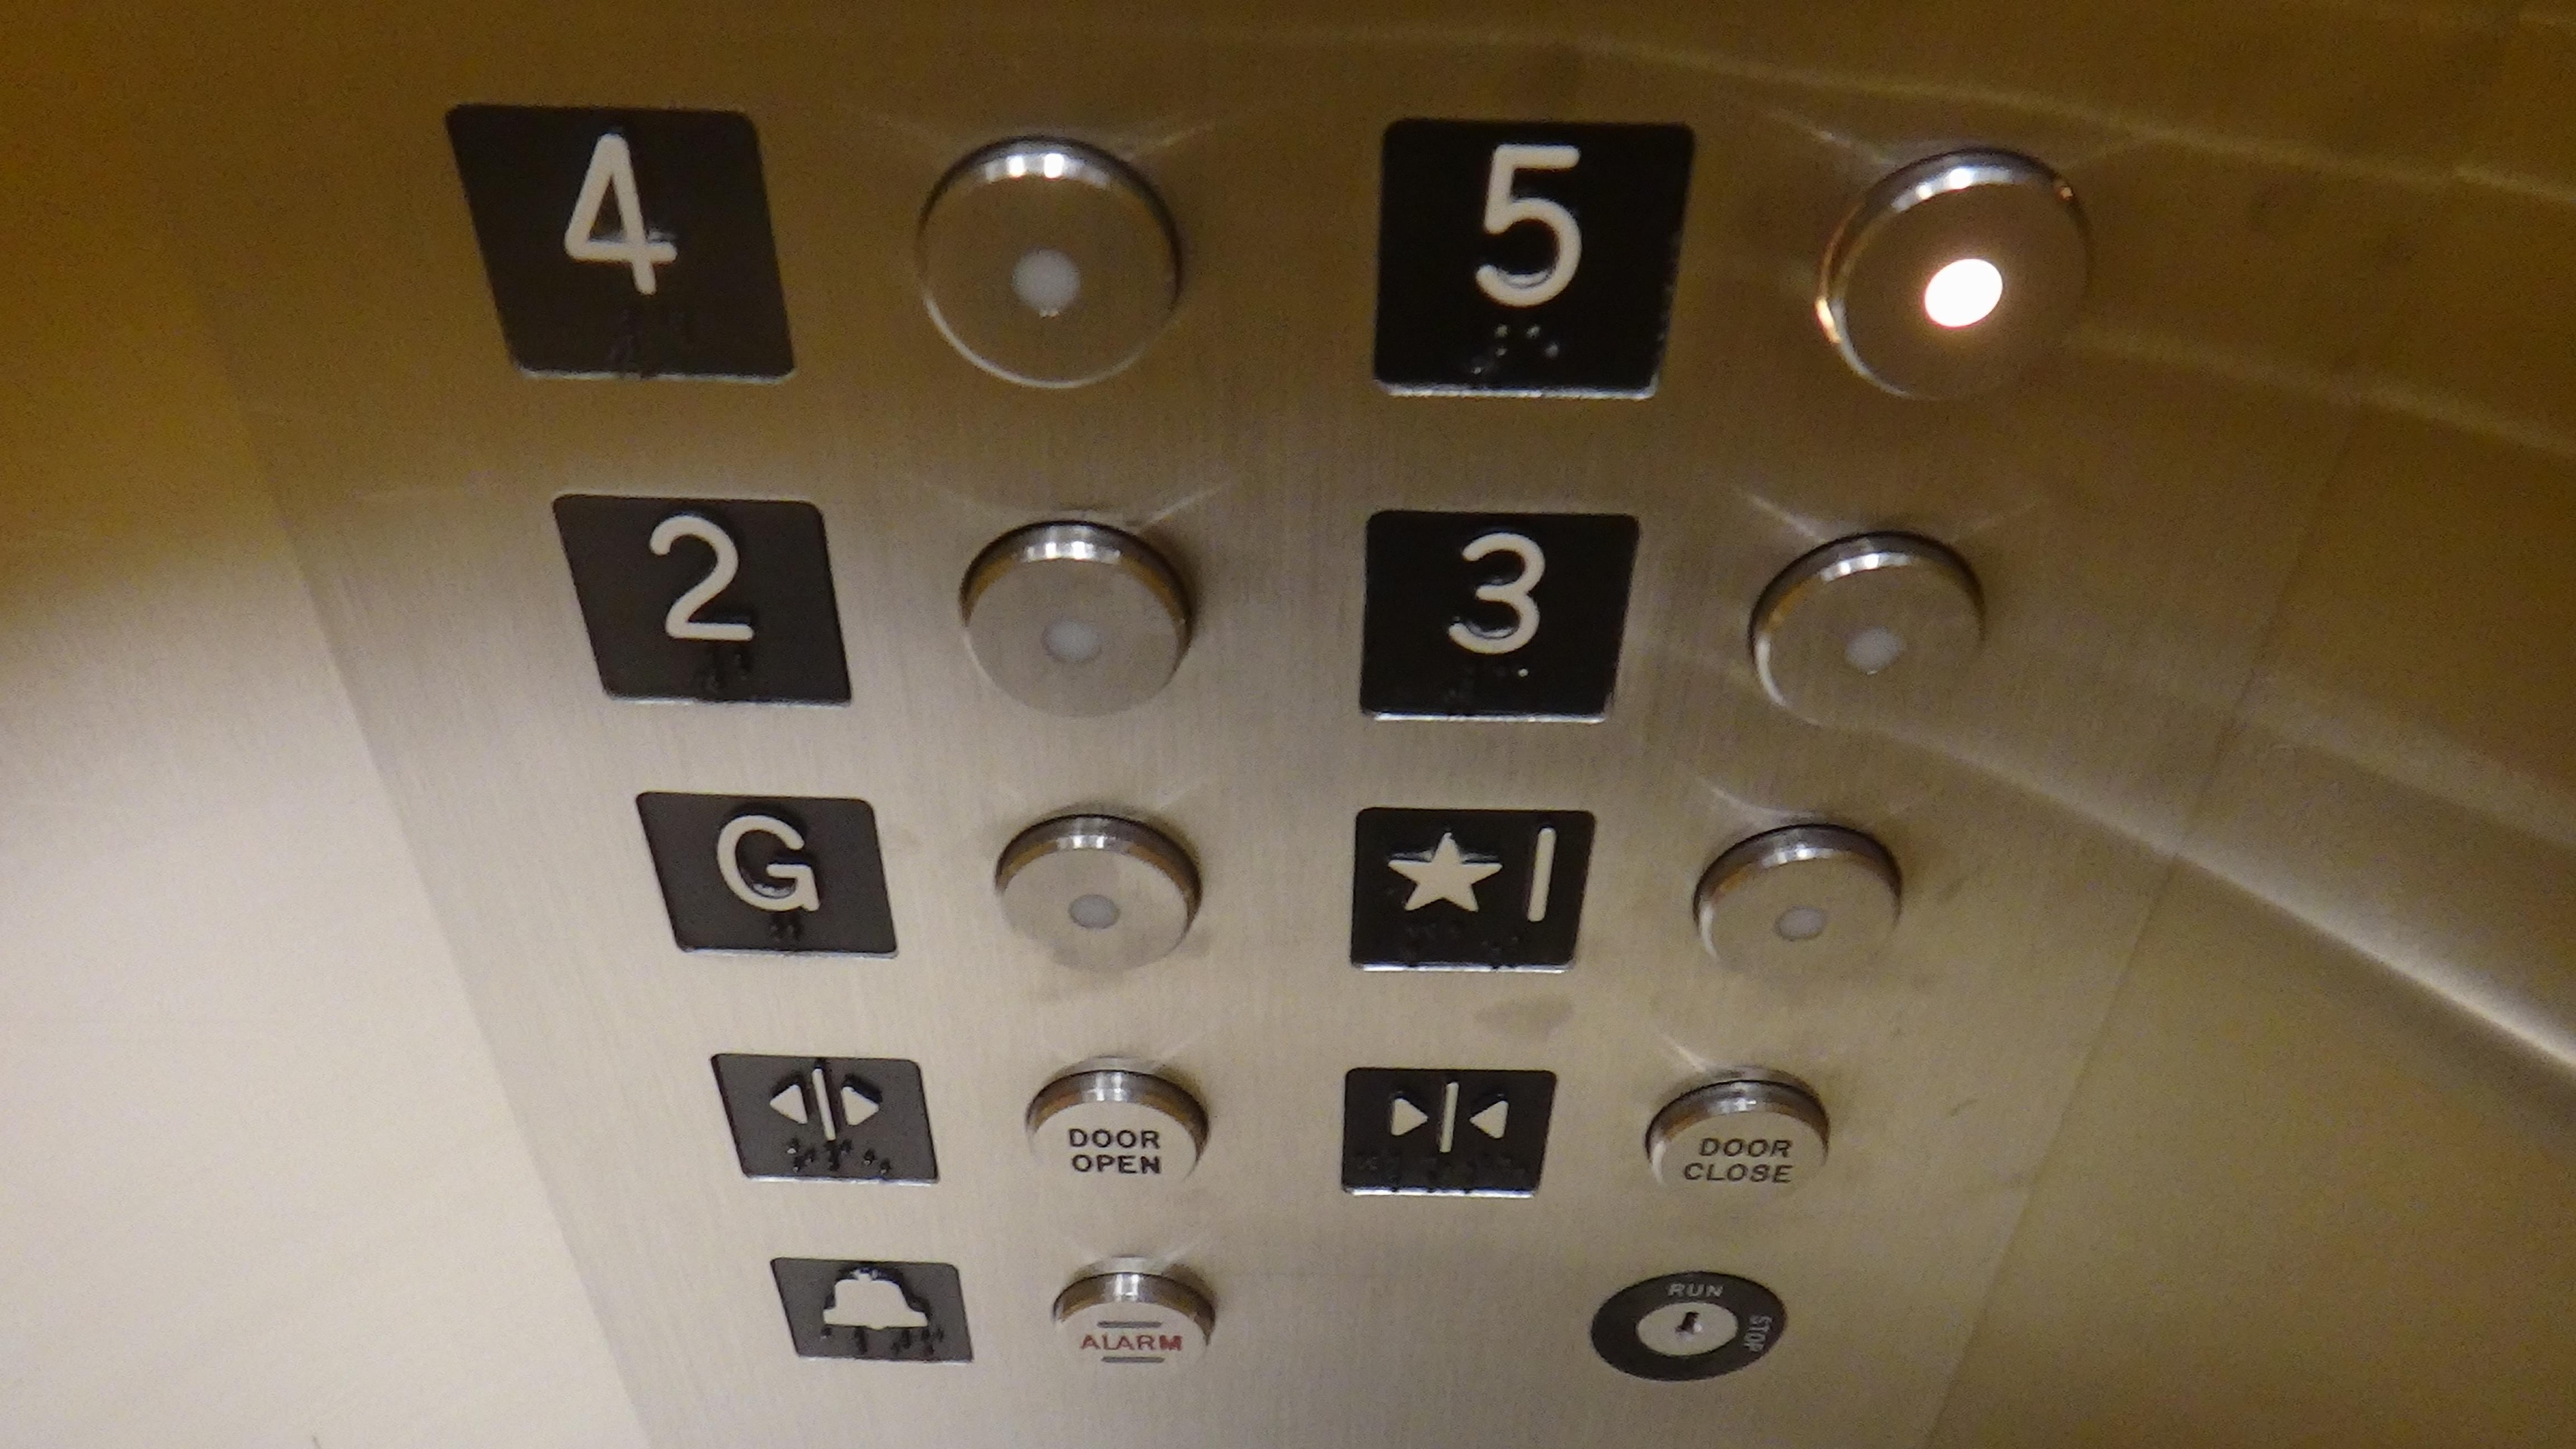2: (540, 479, 858, 713)
3: (1361, 501, 1647, 727)
4: (426, 90, 800, 386)
5: (1376, 101, 1702, 414)
G: (626, 784, 906, 966)
alarm: (761, 1247, 982, 1369)
close: (1339, 1062, 1557, 1201)
empty: (904, 129, 1189, 395), (1813, 149, 2098, 414), (948, 511, 1198, 722), (1744, 529, 1994, 740), (1686, 810, 1907, 985), (984, 803, 1203, 978)
keyhole: (1587, 1247, 1789, 1401)
open: (704, 1046, 950, 1192)
s1: (1350, 796, 1603, 982)
text_alarm: (1035, 1260, 1224, 1394)
text_door close: (1640, 1070, 1829, 1224)
text_door open: (1016, 1062, 1219, 1212)
